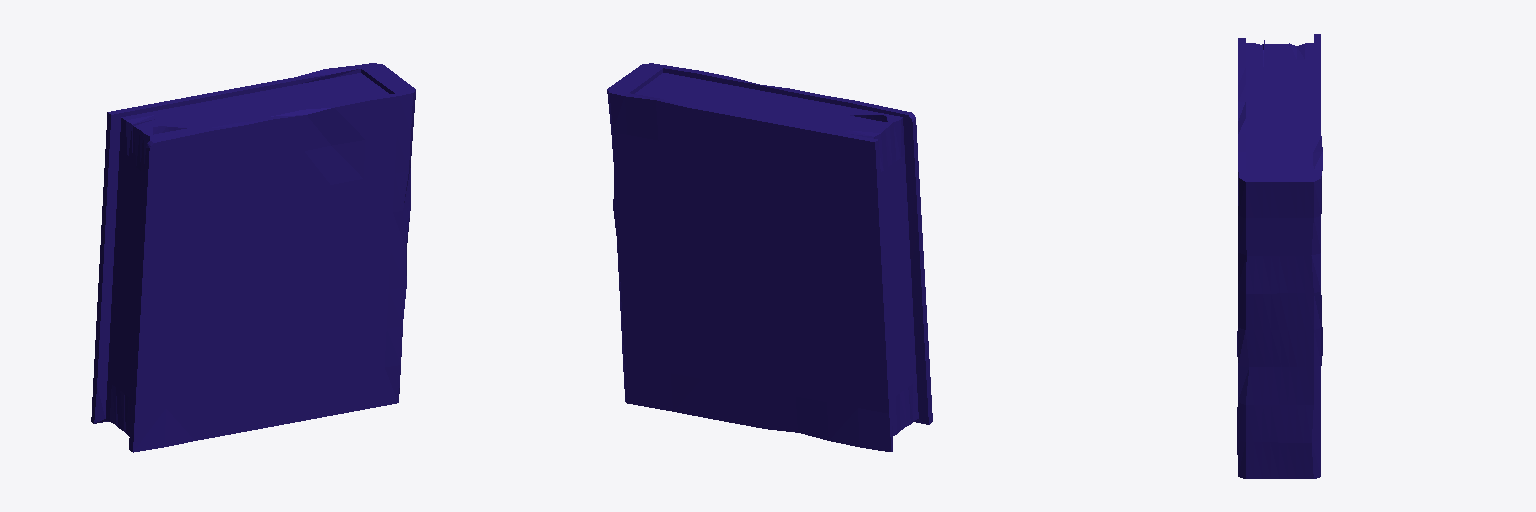
Rendered from book1.obj.
3 views of the same model, side by side, from view 1: azimuth 30°, elevation 25°; view 2: azimuth 150°, elevation 25°; view 3: azimuth 270°, elevation 25° (orthographic).
Visible parts, largest first — view 1: book1; view 2: book1; view 3: book1.
Boxes of the visible parts, box(x1,y1,x2,y2) form: book1: box(91, 63, 415, 452); book1: box(607, 63, 932, 451); book1: box(1237, 34, 1322, 478).
Bounding box in the file's own units: 0.8737 × 0.9384 × 0.2268.